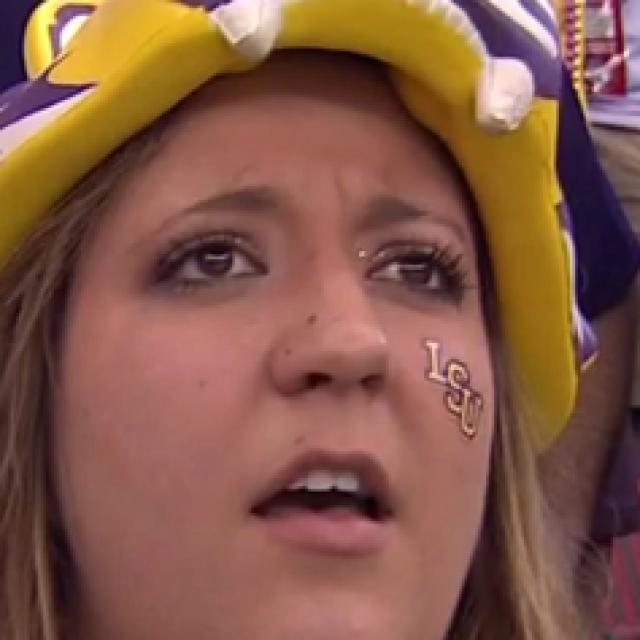Depress: (51, 52, 500, 637)
